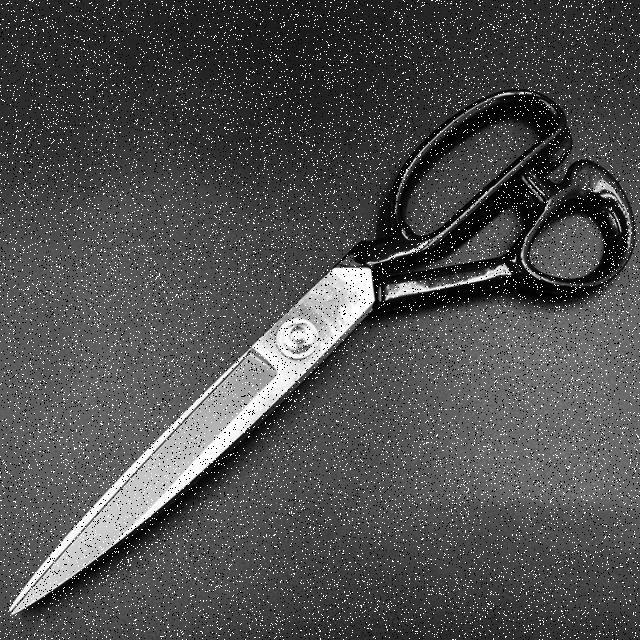scissors: (5, 84, 638, 626)
